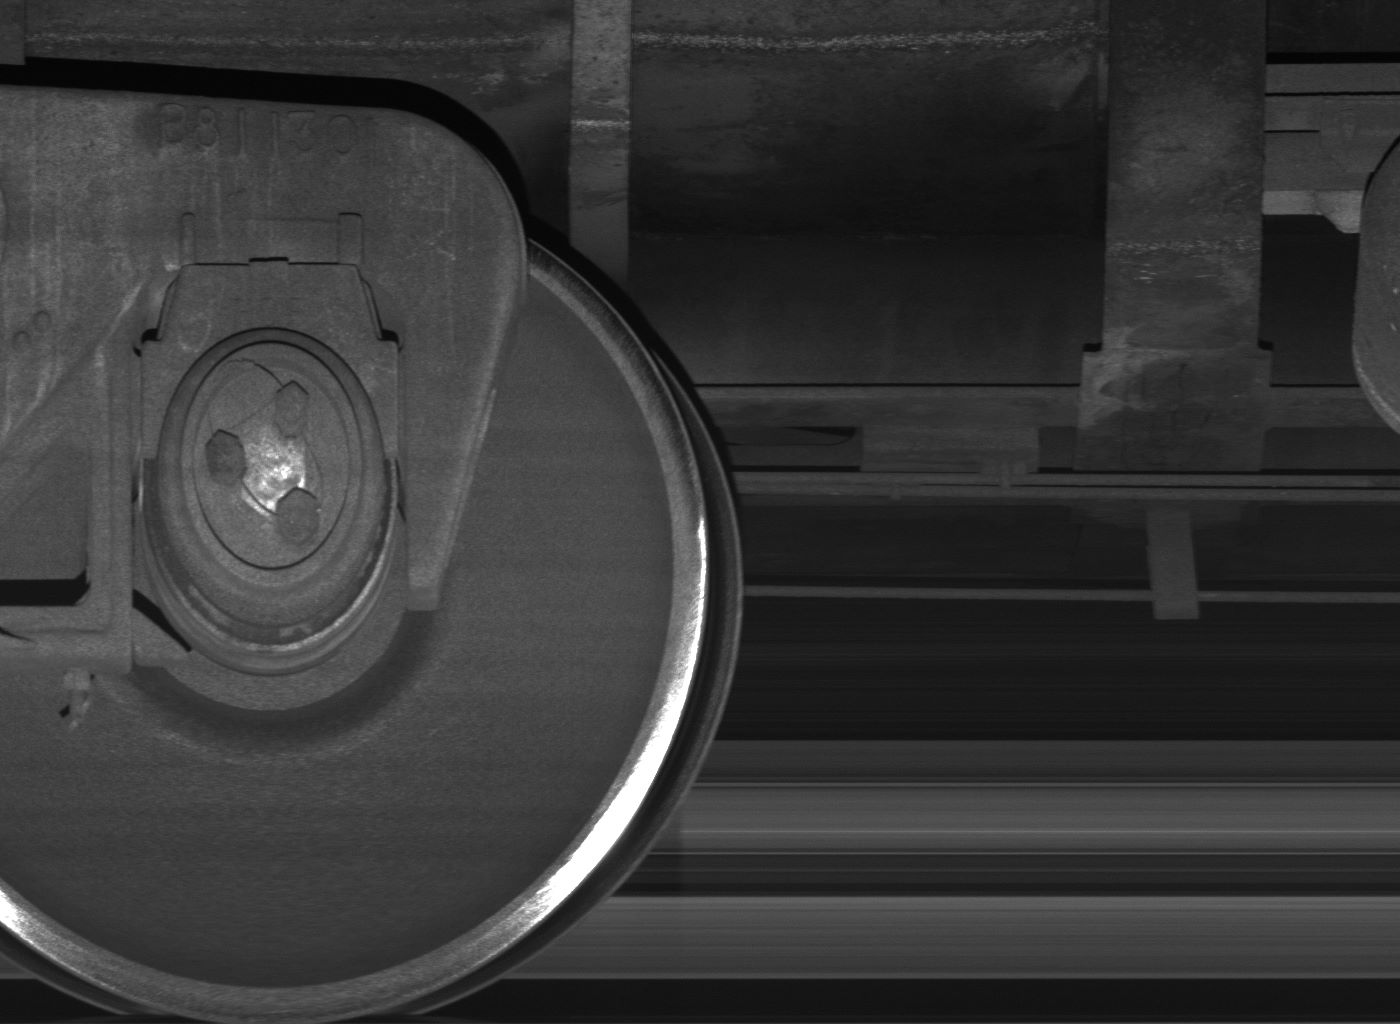normal: (1145, 509, 1202, 619)
